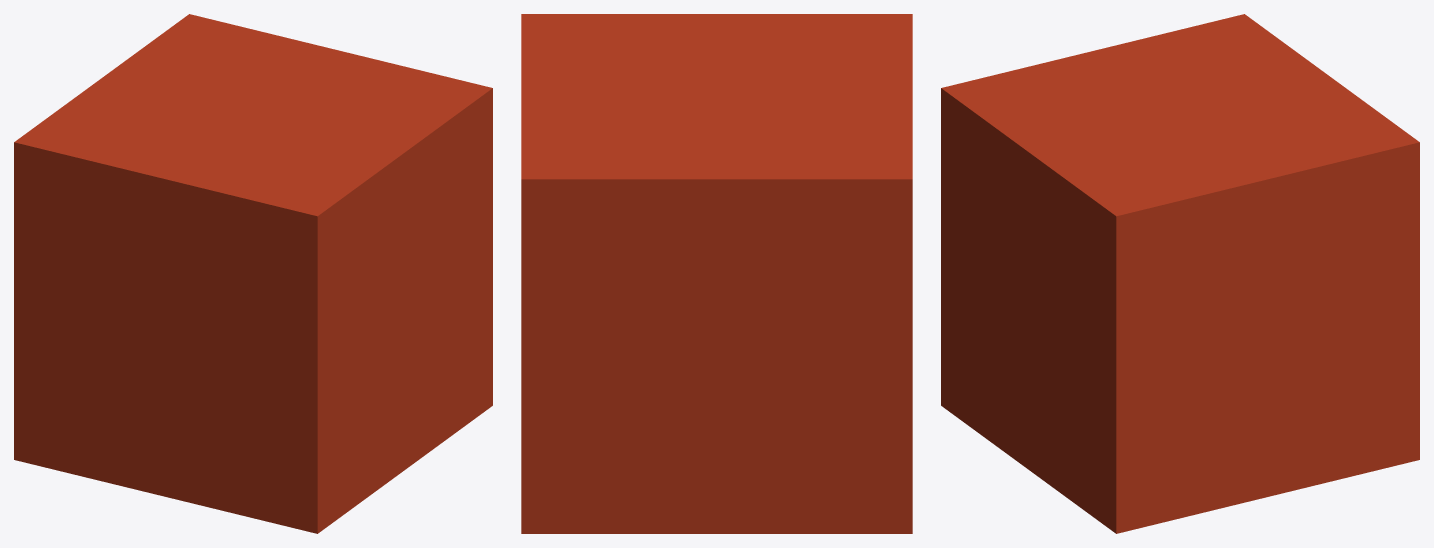
The model's file is staged_assimp.dae.
The picture shows the model from 3 angles, left to right: view 1: azimuth 30°, elevation 25°; view 2: azimuth 150°, elevation 25°; view 3: azimuth 270°, elevation 25°; orthographic projection. The views are drawn at different scales.
Visible parts, largest first — view 1: cube_node; view 2: cube_node; view 3: cube_node.
Boxes of the visible parts, x1,y1,x2,y2 form: cube_node: (14,14,492,533); cube_node: (521,14,912,533); cube_node: (941,14,1419,533).
Size of what is drawn, in the model's own units: 1.37 by 1 by 1.37.
